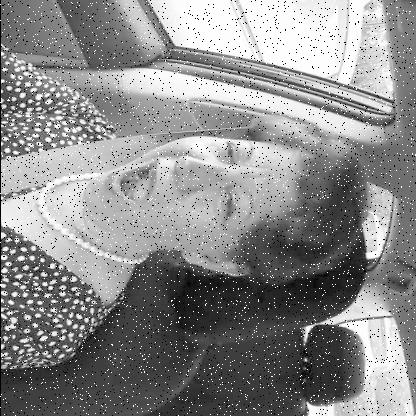seatbelt: (0, 80, 375, 290)
